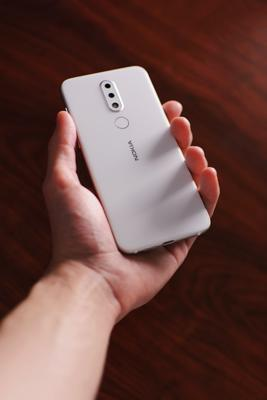cell-phone: (56, 58, 213, 258)
